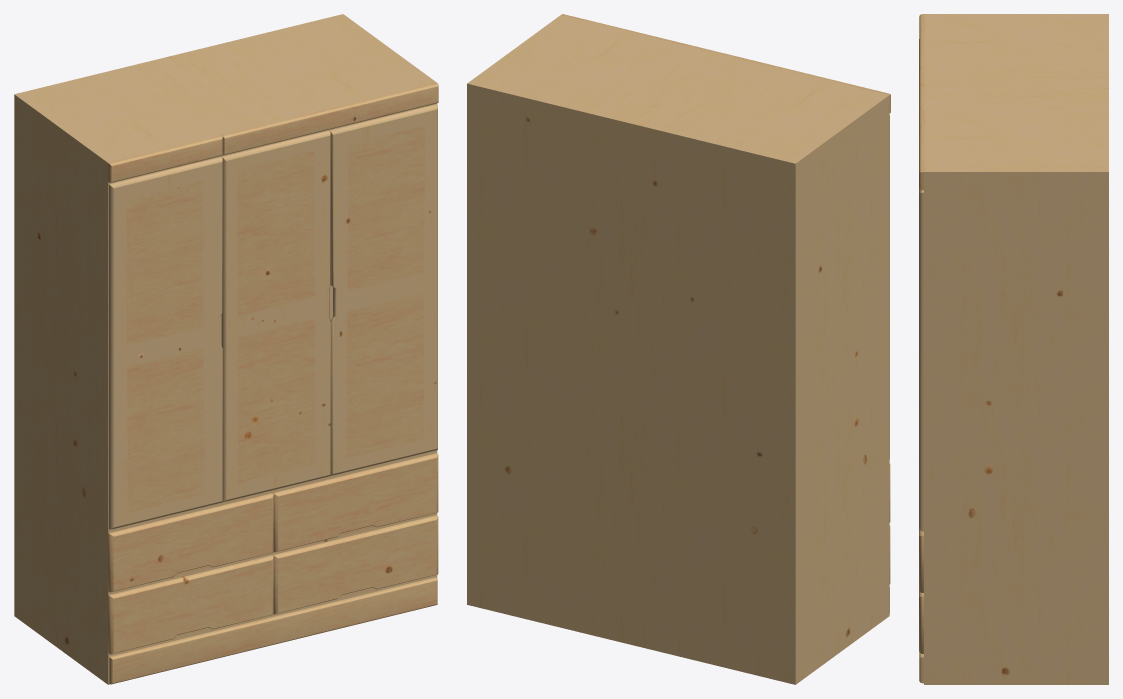
File: Cupb5.gltf
3 views of the same model, side by side, from view 1: azimuth 30°, elevation 25°; view 2: azimuth 150°, elevation 25°; view 3: azimuth 270°, elevation 25° (orthographic).
Size of the model in its own units: 11.27 by 17.08 by 5.73.
Materials: 1 (1 with a texture image).
